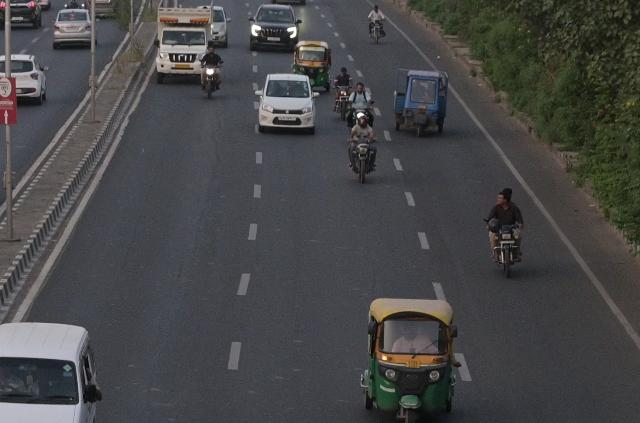With Helmet: (358, 116, 368, 128)
Without Helmet: (496, 186, 512, 206), (354, 80, 366, 94), (340, 66, 348, 76), (208, 46, 215, 56), (372, 5, 380, 13)
